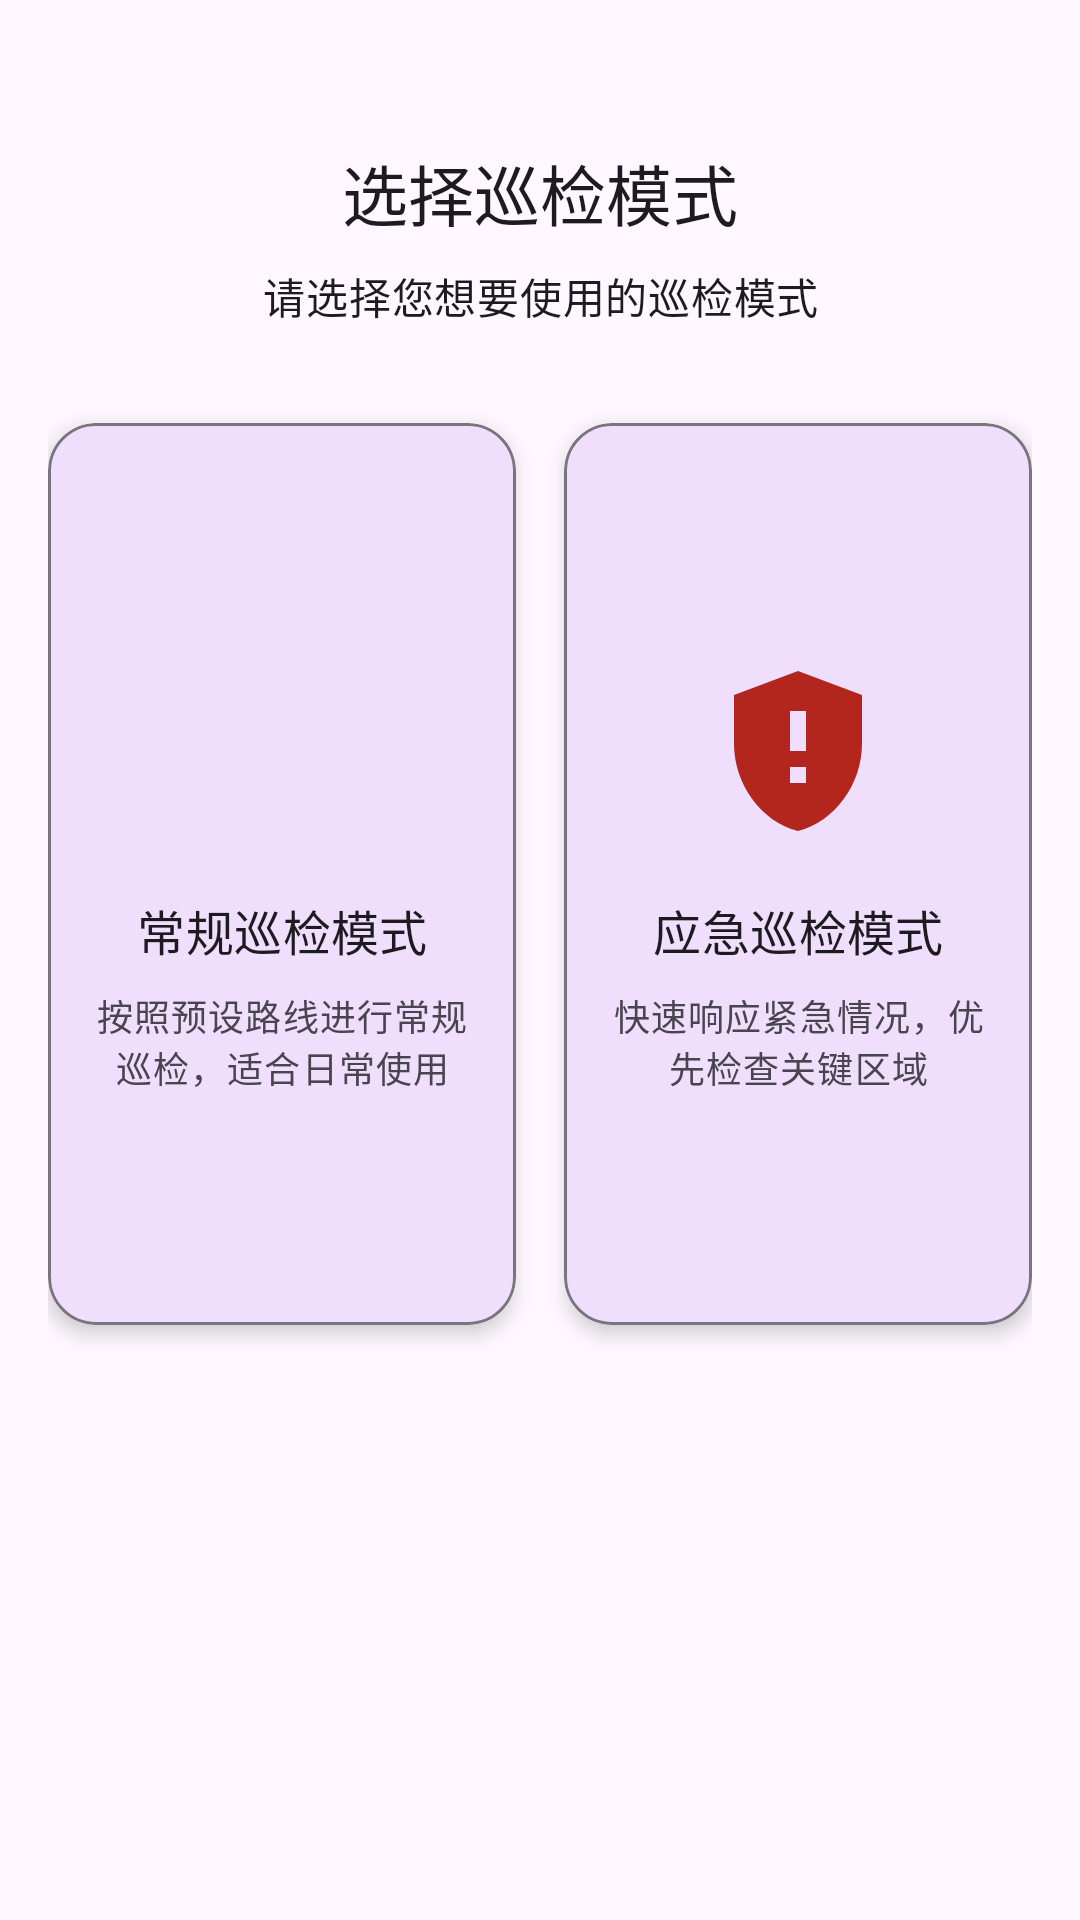

Screen size 1080px x 1920px. Icon name, then its box in pixels as [x1=x1, y1=y1, x2=x2, y2=y2]:
emergency inspection: [x1=734, y1=671, x2=862, y2=831]
